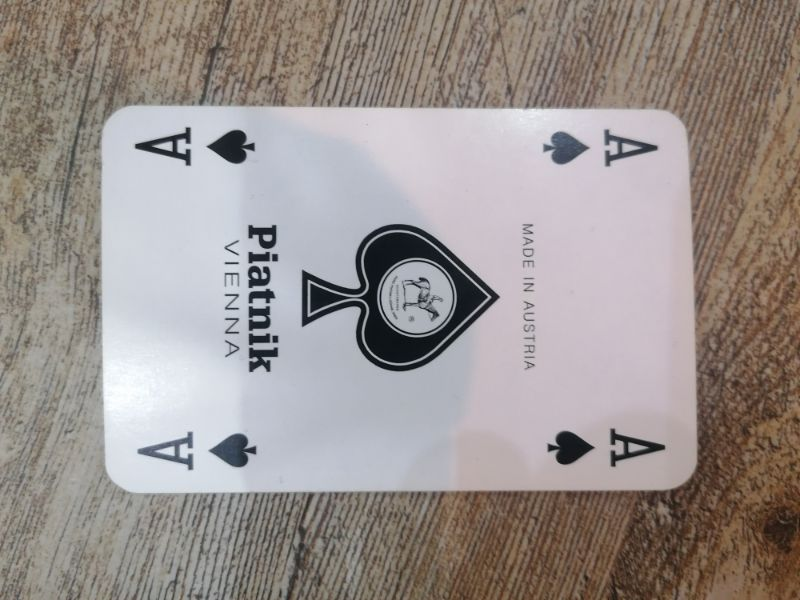As: (530, 124, 666, 169), (128, 124, 262, 169), (132, 426, 262, 472), (544, 424, 672, 470)
